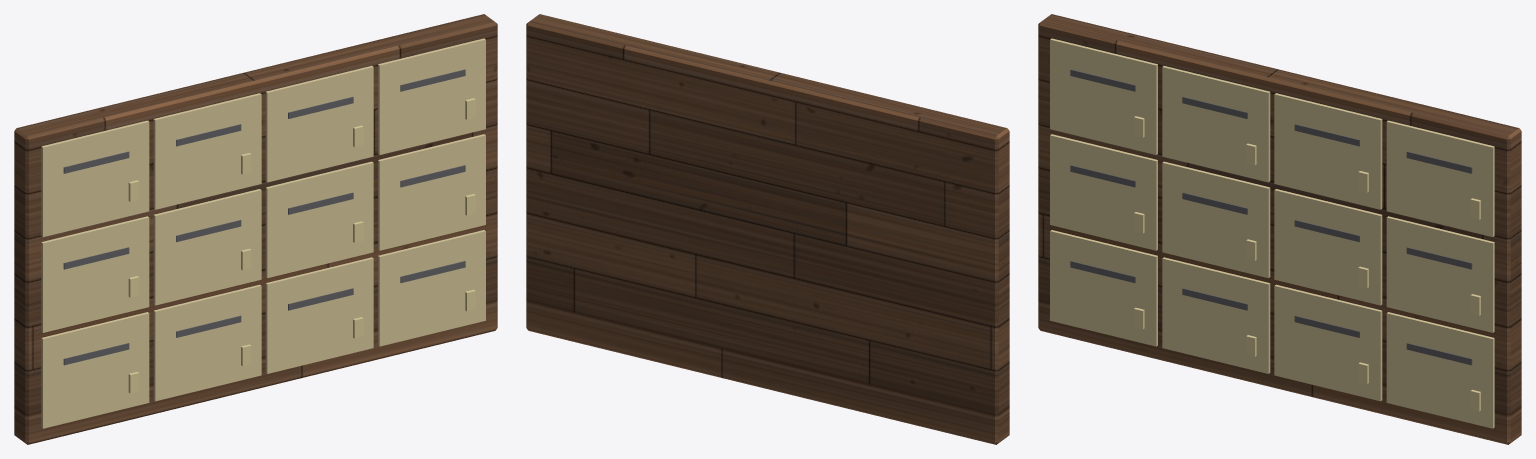
File: mailboxes.glb
3 views of the same model, side by side, from view 1: azimuth 30°, elevation 25°; view 2: azimuth 150°, elevation 25°; view 3: azimuth 330°, elevation 25° (orthographic).
Parts seen in each view (by area): view 1: mailboxes_brass, mailboxes_dkwood, mailboxes_dark, mailboxes_gold; view 2: mailboxes_dkwood; view 3: mailboxes_brass, mailboxes_dkwood, mailboxes_dark, mailboxes_gold.
Boxes of the visible parts, left/top/right/bottom form: mailboxes_brass: left=41, top=38, right=485, bottom=428; mailboxes_dkwood: left=14, top=14, right=497, bottom=444; mailboxes_dark: left=63, top=69, right=465, bottom=365; mailboxes_gold: left=128, top=98, right=475, bottom=393; mailboxes_dkwood: left=526, top=14, right=1009, bottom=444; mailboxes_brass: left=1050, top=38, right=1494, bottom=428; mailboxes_dkwood: left=1038, top=14, right=1521, bottom=444; mailboxes_dark: left=1070, top=69, right=1472, bottom=365; mailboxes_gold: left=1134, top=116, right=1480, bottom=411.
Size of the model in its own units: 1.6 by 1 by 0.1.
Materials: 4 (1 with a texture image).
